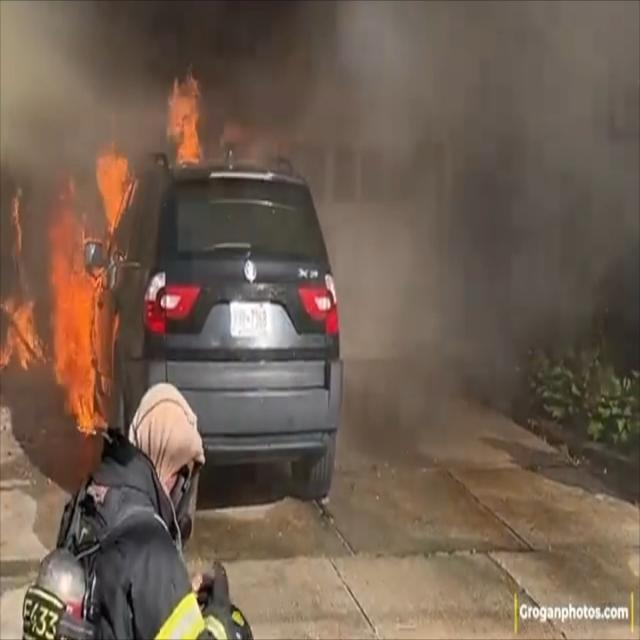fire: (0, 47, 206, 428)
